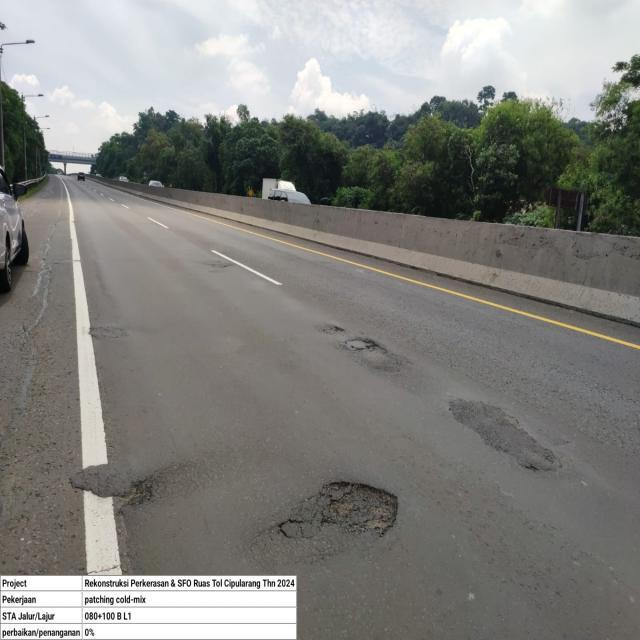Buraco: (311, 478, 402, 540), (336, 336, 380, 354), (320, 324, 348, 337)
